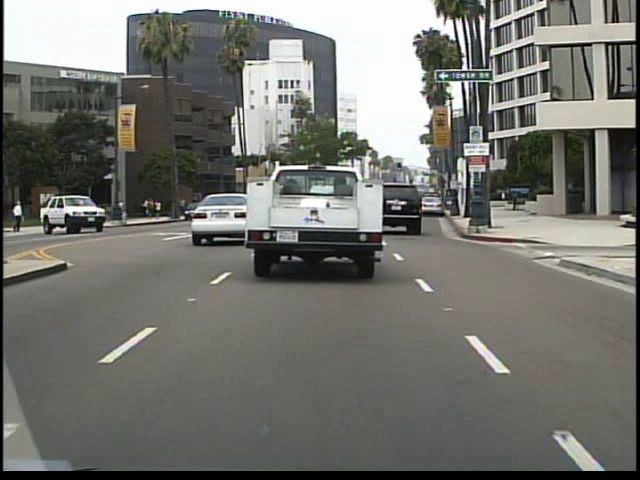person: (71, 191, 87, 228), (64, 197, 81, 231), (13, 194, 27, 233), (113, 192, 129, 223)
